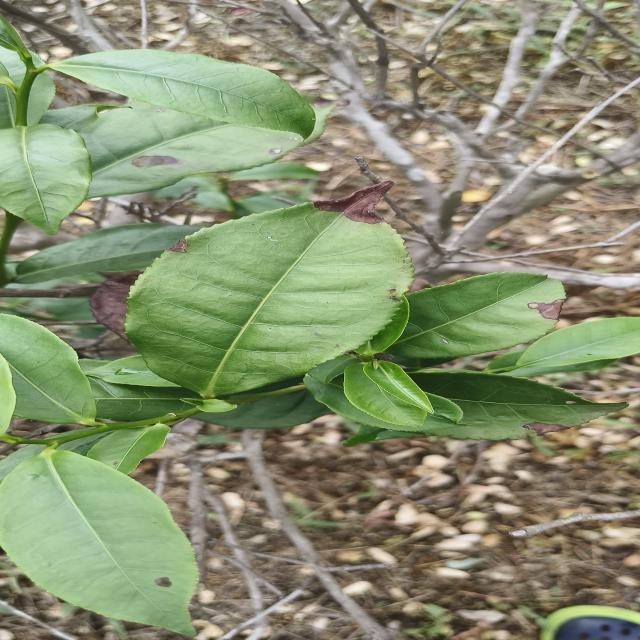Leaf: (125, 181, 413, 399), (0, 448, 197, 635), (80, 101, 334, 198), (50, 49, 314, 138), (388, 272, 564, 361), (410, 370, 626, 439), (16, 223, 204, 283), (0, 314, 97, 426), (0, 124, 91, 235), (489, 318, 640, 376), (344, 365, 426, 426), (87, 424, 170, 474), (364, 360, 433, 413), (85, 355, 180, 387), (39, 103, 132, 131), (229, 162, 318, 181)
